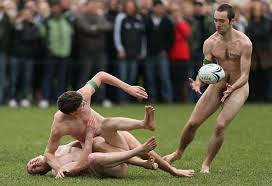10+: (2, 2, 267, 163)
down: (55, 74, 173, 166), (21, 109, 156, 179)
